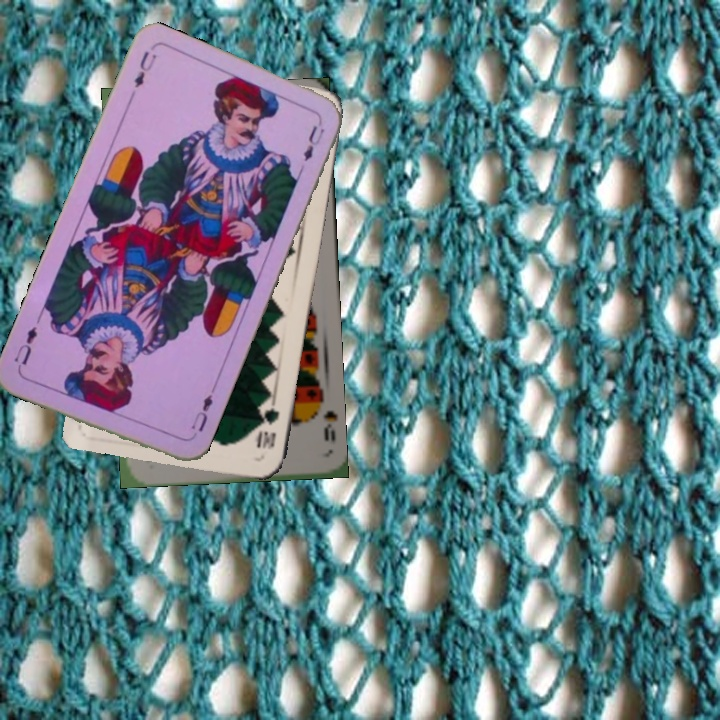EU: (184, 386, 216, 442), (130, 47, 159, 91)
G10: (253, 404, 282, 452)
S9: (319, 406, 338, 445)
